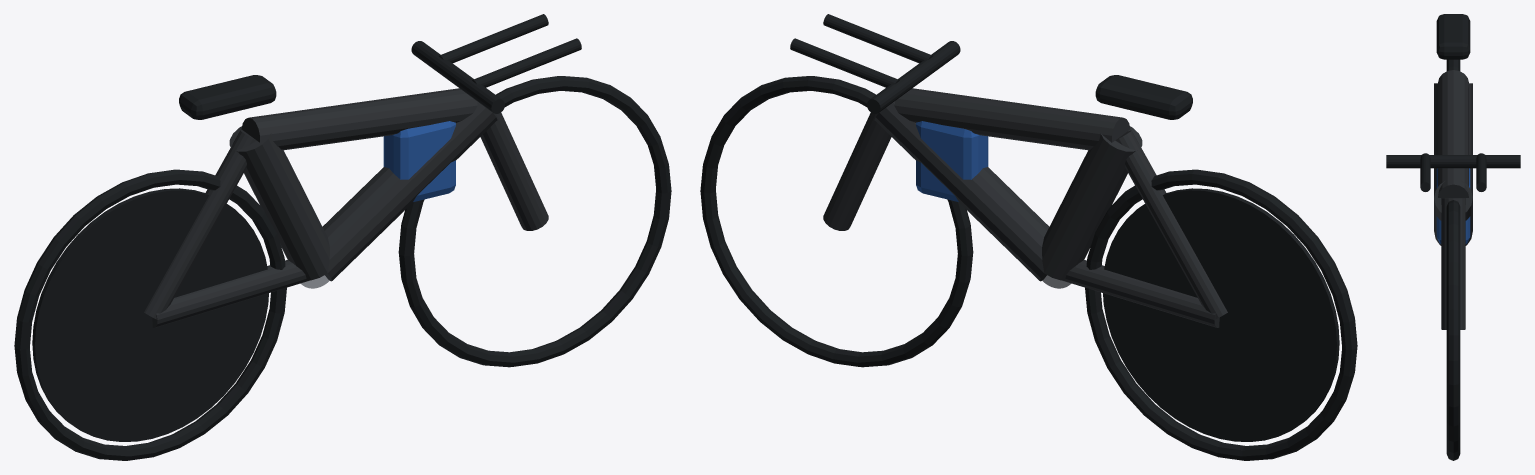
The model's file is orbea-ordu-kona-study.glb.
3 views of the same model, side by side, from view 1: azimuth 30°, elevation 25°; view 2: azimuth 150°, elevation 25°; view 3: azimuth 270°, elevation 25° (orthographic). The views are drawn at different scales.
Parts seen in each view (by area): view 1: orbea-ordu-kona-study_REAR_DISC, orbea-ordu-kona-study_REAR_WHEEL, orbea-ordu-kona-study_FRONT_WHEEL, orbea-ordu-kona-study_TOP_TUBE, orbea-ordu-kona-study_DOWN_TUBE, orbea-ordu-kona-study_SEAT_TUBE, orbea-ordu-kona-study_SEAT_STAY, orbea-ordu-kona-study_CHAIN_STAY, orbea-ordu-kona-study_ORDU_NOTCH, orbea-ordu-kona-study_FORK, orbea-ordu-kona-study_SADDLE, orbea-ordu-kona-study_AERO_BASE (+2 smaller); view 2: orbea-ordu-kona-study_REAR_DISC, orbea-ordu-kona-study_REAR_WHEEL, orbea-ordu-kona-study_FRONT_WHEEL, orbea-ordu-kona-study_TOP_TUBE, orbea-ordu-kona-study_DOWN_TUBE, orbea-ordu-kona-study_SEAT_TUBE, orbea-ordu-kona-study_SEAT_STAY, orbea-ordu-kona-study_CHAIN_STAY, orbea-ordu-kona-study_ORDU_NOTCH, orbea-ordu-kona-study_FORK, orbea-ordu-kona-study_SADDLE, orbea-ordu-kona-study_AERO_BASE (+2 smaller); view 3: orbea-ordu-kona-study_FRONT_WHEEL, orbea-ordu-kona-study_TOP_TUBE, orbea-ordu-kona-study_AERO_BASE, orbea-ordu-kona-study_FORK, orbea-ordu-kona-study_SADDLE, orbea-ordu-kona-study_SEAT_TUBE, orbea-ordu-kona-study_DOWN_TUBE, orbea-ordu-kona-study_EXT_L, orbea-ordu-kona-study_EXT_R, orbea-ordu-kona-study_ORDU_NOTCH, orbea-ordu-kona-study_REAR_WHEEL.
Boxes of the visible parts, x1=… form: orbea-ordu-kona-study_REAR_DISC: x1=32, y1=188, x2=268, y2=441; orbea-ordu-kona-study_REAR_WHEEL: x1=14, y1=169, x2=286, y2=460; orbea-ordu-kona-study_FRONT_WHEEL: x1=398, y1=76, x2=671, y2=367; orbea-ordu-kona-study_TOP_TUBE: x1=241, y1=88, x2=477, y2=150; orbea-ordu-kona-study_DOWN_TUBE: x1=322, y1=101, x2=497, y2=281; orbea-ordu-kona-study_SEAT_TUBE: x1=229, y1=126, x2=329, y2=280; orbea-ordu-kona-study_SEAT_STAY: x1=144, y1=130, x2=256, y2=319; orbea-ordu-kona-study_CHAIN_STAY: x1=152, y1=260, x2=309, y2=327; orbea-ordu-kona-study_ORDU_NOTCH: x1=383, y1=121, x2=455, y2=201; orbea-ordu-kona-study_FORK: x1=480, y1=112, x2=548, y2=230; orbea-ordu-kona-study_SADDLE: x1=179, y1=75, x2=276, y2=119; orbea-ordu-kona-study_AERO_BASE: x1=411, y1=41, x2=504, y2=113; orbea-ordu-kona-study_REAR_DISC: x1=1103, y1=188, x2=1339, y2=441; orbea-ordu-kona-study_REAR_WHEEL: x1=1085, y1=169, x2=1357, y2=460; orbea-ordu-kona-study_FRONT_WHEEL: x1=700, y1=76, x2=973, y2=367; orbea-ordu-kona-study_TOP_TUBE: x1=894, y1=88, x2=1130, y2=150; orbea-ordu-kona-study_DOWN_TUBE: x1=874, y1=101, x2=1049, y2=281; orbea-ordu-kona-study_SEAT_TUBE: x1=1042, y1=126, x2=1142, y2=280; orbea-ordu-kona-study_SEAT_STAY: x1=1115, y1=130, x2=1227, y2=319; orbea-ordu-kona-study_CHAIN_STAY: x1=1062, y1=260, x2=1219, y2=327; orbea-ordu-kona-study_ORDU_NOTCH: x1=916, y1=121, x2=988, y2=201; orbea-ordu-kona-study_FORK: x1=823, y1=112, x2=891, y2=230; orbea-ordu-kona-study_SADDLE: x1=1095, y1=75, x2=1192, y2=119; orbea-ordu-kona-study_AERO_BASE: x1=867, y1=41, x2=960, y2=113; orbea-ordu-kona-study_FRONT_WHEEL: x1=1446, y1=200, x2=1460, y2=460; orbea-ordu-kona-study_TOP_TUBE: x1=1438, y1=70, x2=1468, y2=197; orbea-ordu-kona-study_AERO_BASE: x1=1386, y1=155, x2=1520, y2=168; orbea-ordu-kona-study_FORK: x1=1441, y1=198, x2=1465, y2=329; orbea-ordu-kona-study_SADDLE: x1=1436, y1=14, x2=1470, y2=59; orbea-ordu-kona-study_SEAT_TUBE: x1=1434, y1=83, x2=1472, y2=197; orbea-ordu-kona-study_DOWN_TUBE: x1=1434, y1=181, x2=1472, y2=245; orbea-ordu-kona-study_EXT_L: x1=1420, y1=153, x2=1430, y2=191; orbea-ordu-kona-study_EXT_R: x1=1476, y1=153, x2=1486, y2=191; orbea-ordu-kona-study_ORDU_NOTCH: x1=1436, y1=168, x2=1470, y2=243; orbea-ordu-kona-study_REAR_WHEEL: x1=1446, y1=59, x2=1460, y2=70.
Bounding box in the file's own units: 1.71 × 0.873 × 0.36.
